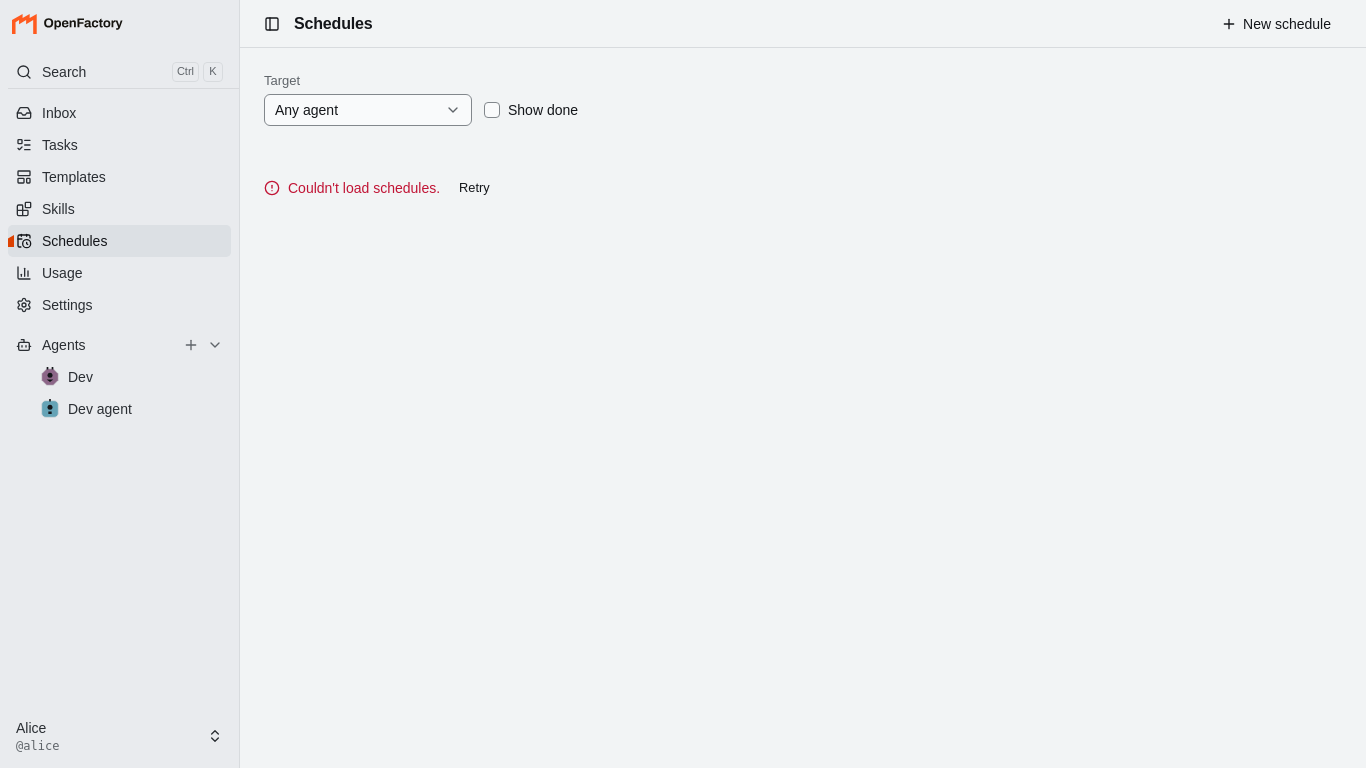
Scenario: a failed first load shows the load error with Retry, and Retry loads the list
Expected: the text "Couldn't load schedules." is shown, 288,178 -> 440,198
Click the button "Retry" at (474, 188), box 448,174 -> 501,202
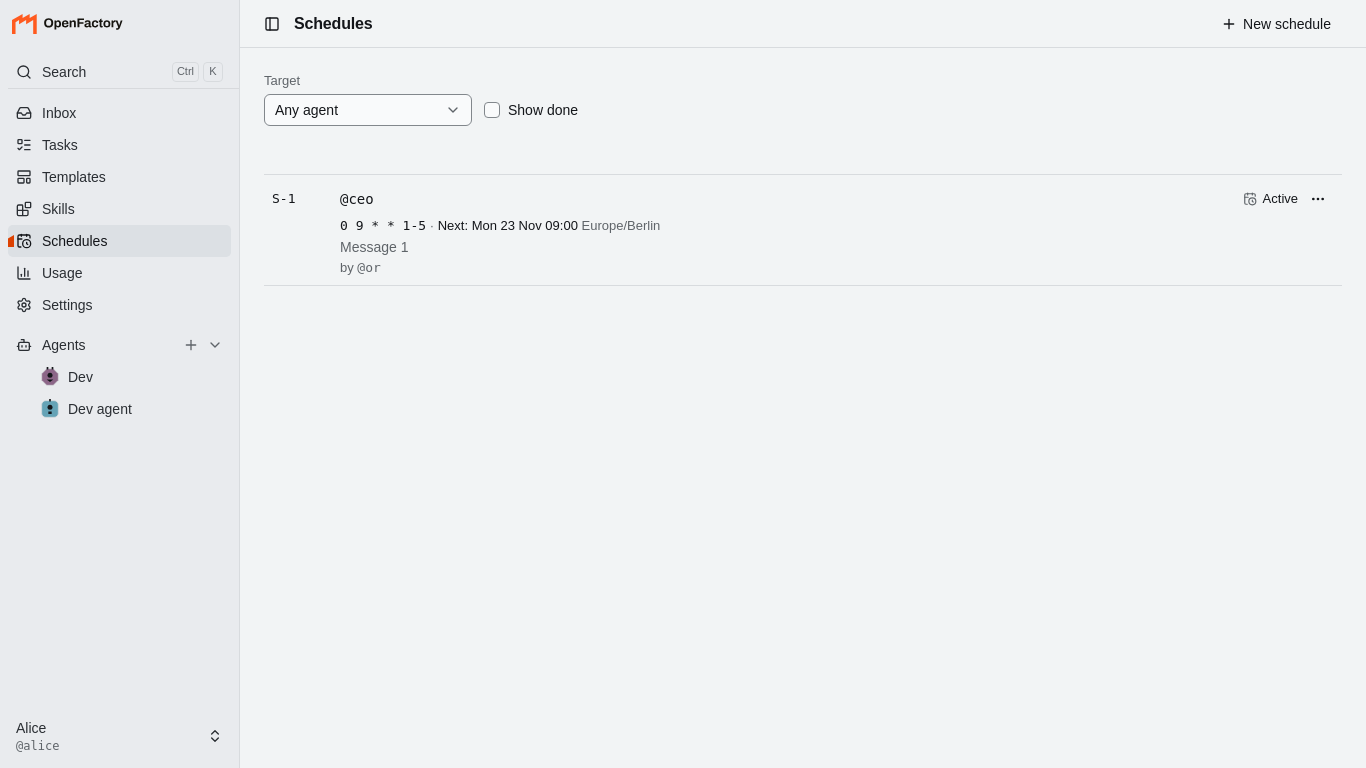
Expected: the text "Couldn't load schedules." is gone
